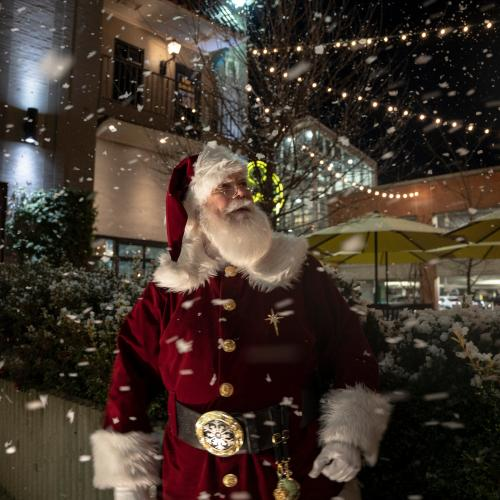Santa: (91, 128, 388, 500)
